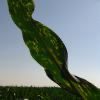Corn leaf blight: (7, 0, 99, 99)
